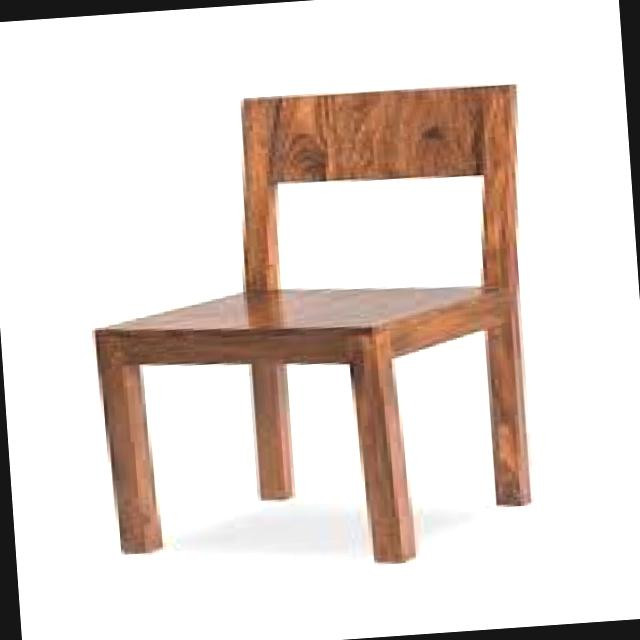obstacle: (41, 57, 584, 604)
